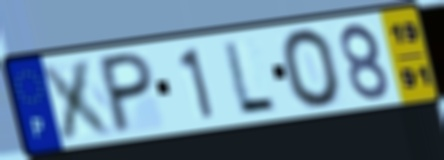1: (177, 44, 216, 122)
8: (338, 20, 391, 103)
L: (220, 38, 279, 114)
O: (278, 26, 345, 111)
P: (99, 49, 155, 138)
X: (36, 55, 120, 143)
